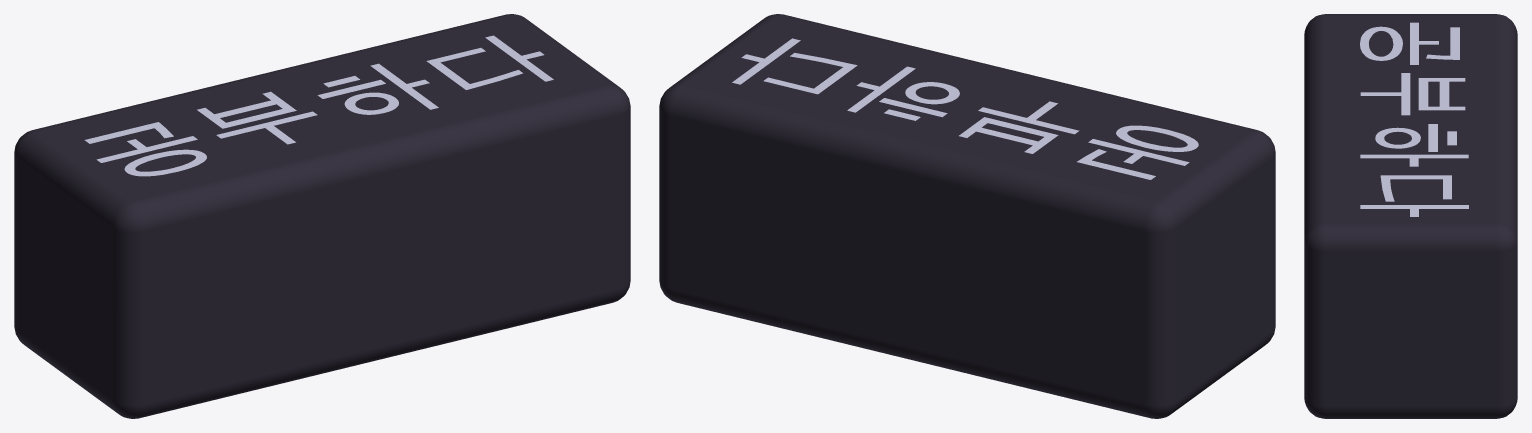
Rendered from study.glb.
The picture shows the model from 3 angles, left to right: view 1: azimuth 30°, elevation 25°; view 2: azimuth 150°, elevation 25°; view 3: azimuth 270°, elevation 25°; orthographic projection. The views are drawn at different scales.
Parts seen in each view (by area): view 1: Cut, Extrude; view 2: Cut, Extrude; view 3: Cut, Extrude.
Boxes of the visible parts, x1,y1,x2,y2 form: Cut: (14,14,630,418); Extrude: (84,35,553,176); Cut: (659,14,1275,418); Extrude: (732,38,1198,179); Cut: (1304,14,1517,418); Extrude: (1360,22,1468,216).
Size of the model in its own units: 5 by 2 by 2.
